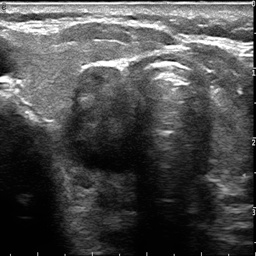mass: (69, 70, 142, 170)
